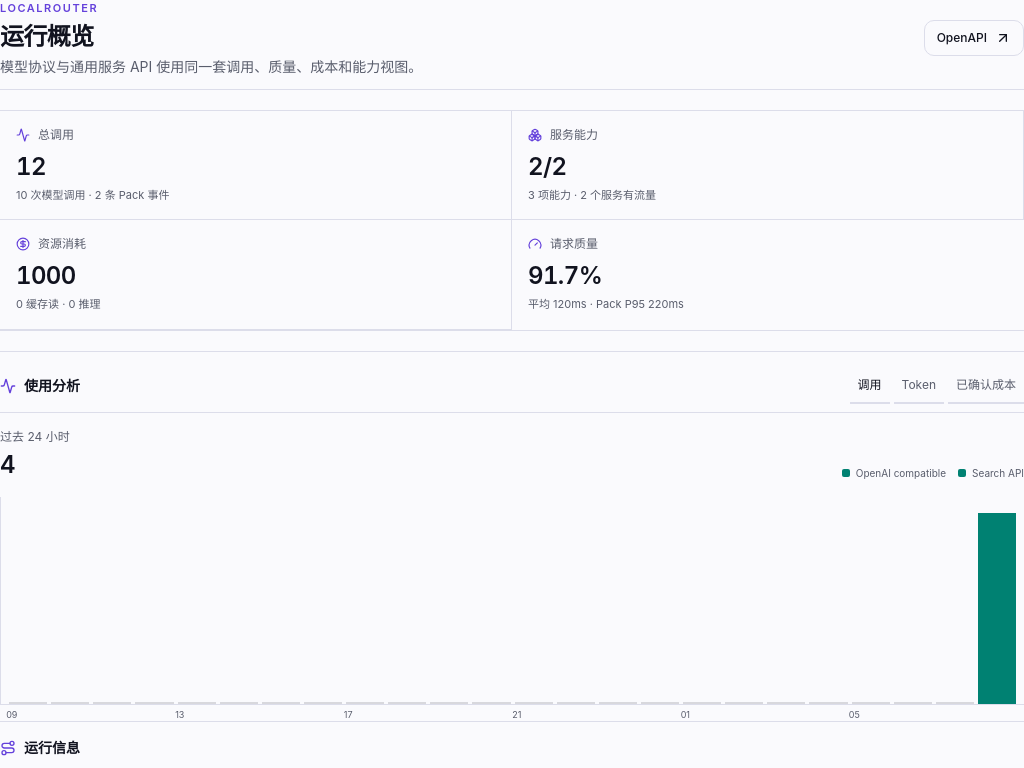
Scenario: OverviewPage › shows model and service API activity without mixing pool value into spend
This screenshot has width=1024, height=768.
Expected: the heading "运行概览" is shown, x1=0 y1=22 x2=94 y2=50
Expected: the text "10 次模型调用 · 2 条 Pack 事件" is shown, x1=16 y1=188 x2=169 y2=202
What coordinates should you click on to do the following:
click the button "已确认成本"
I would click on:
 (986, 386)
Its box is x1=948 y1=368 x2=1023 y2=404.
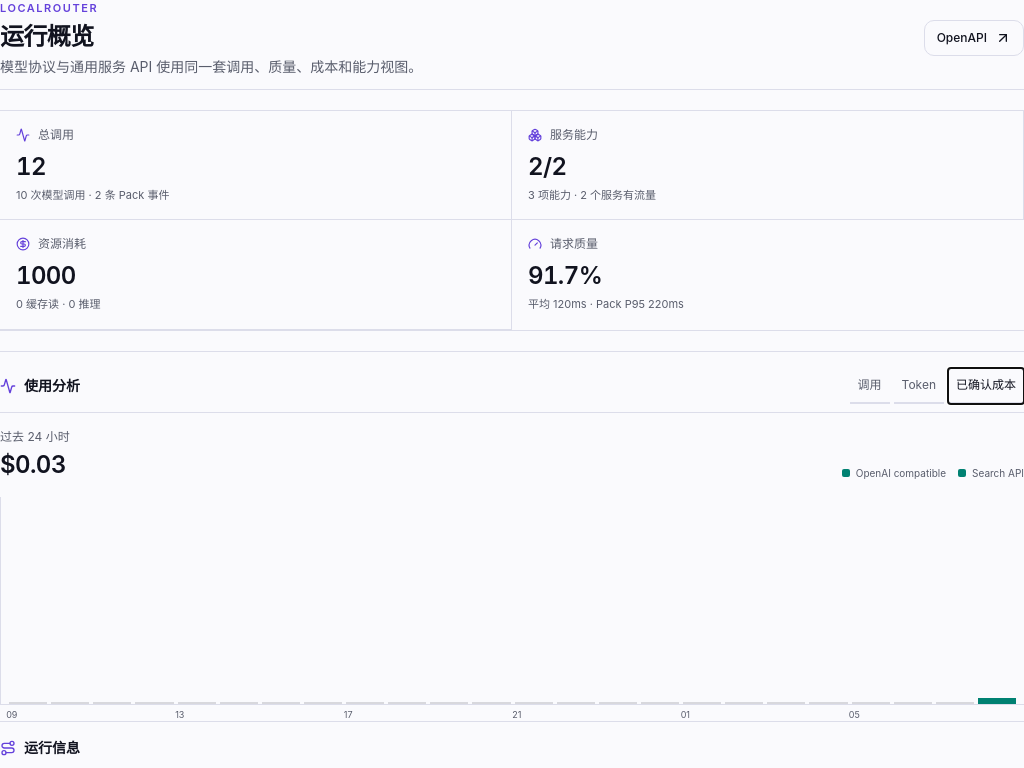
Expected: the picture named "过去 24 小时成本趋势" is shown, x1=0 y1=496 x2=1023 y2=704
Expected: the text "$0.03" is shown, x1=0 y1=448 x2=70 y2=480
